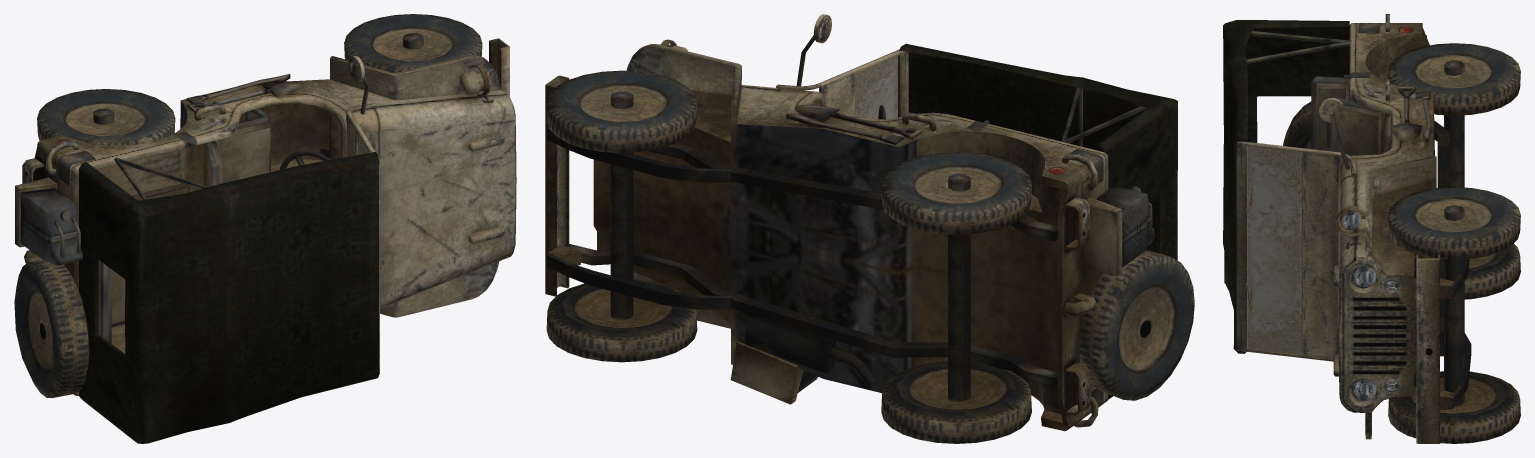
Rendered from vehicle_africa_jeep_can_static.glb.
3 renders of one model, left to right at view 1: azimuth 30°, elevation 25°; view 2: azimuth 150°, elevation 25°; view 3: azimuth 270°, elevation 25°, orthographic. The views are drawn at different scales.
Size of the model in its own units: 149 by 85.2 by 77.05.
Materials: 2 (2 with a texture image).
